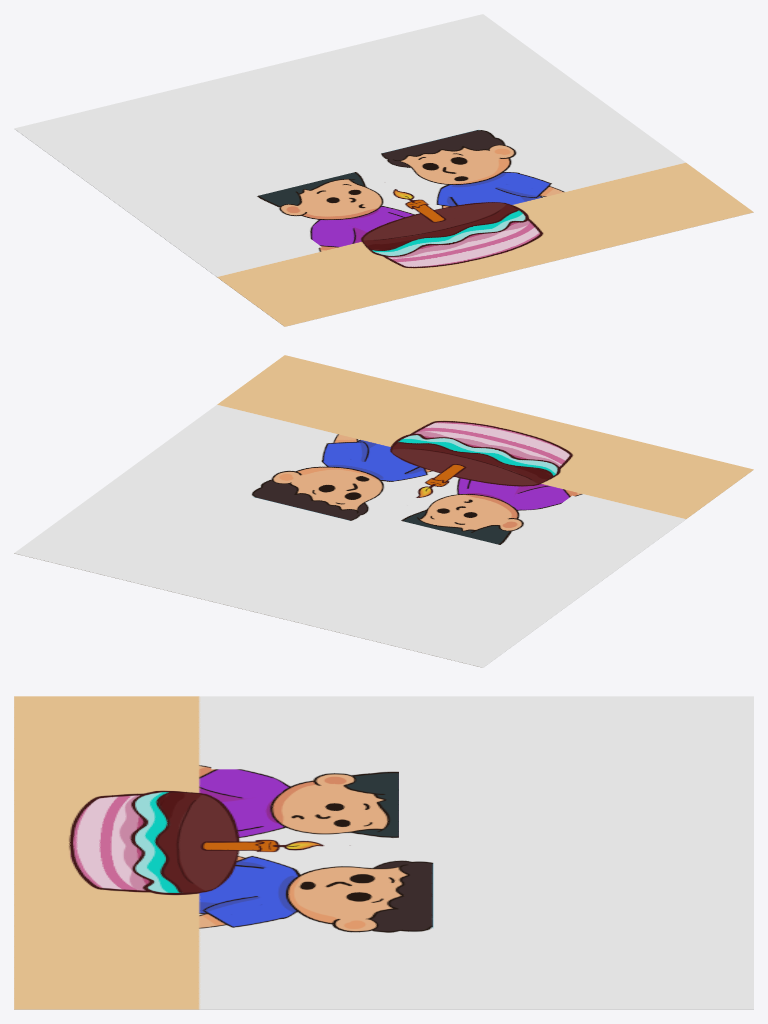
Rendered from Level 21.fbx.
3 renders of one model, top to bottom at view 1: azimuth 30°, elevation 25°; view 2: azimuth 150°, elevation 25°; view 3: azimuth 270°, elevation 25°, orthographic. The views are drawn at different scales.
Parts seen in each view (by area): view 1: mesh, blendmesh1, blendmesh; view 2: mesh, blendmesh1, blendmesh; view 3: mesh, blendmesh1, blendmesh.
Part boxes in pixels (bbox=[...]): mesh: bbox=[14, 14, 753, 326]; blendmesh1: bbox=[350, 40, 599, 141]; blendmesh: bbox=[59, 122, 305, 223]; mesh: bbox=[14, 355, 753, 667]; blendmesh1: bbox=[50, 467, 300, 568]; blendmesh: bbox=[366, 533, 612, 634]; mesh: bbox=[14, 696, 753, 1009]; blendmesh1: bbox=[433, 896, 655, 1009]; blendmesh: bbox=[399, 696, 630, 804].
Size of the model in its own units: 2400 by 1 by 2400.
